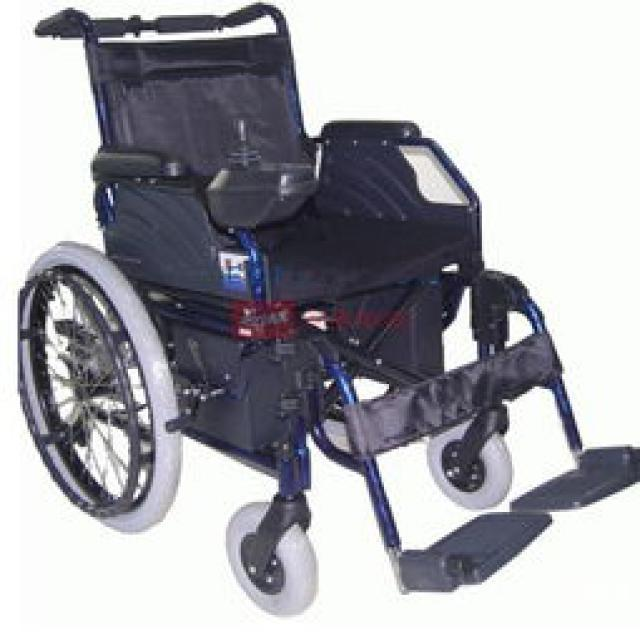wheelchair: (2, 0, 638, 620)
